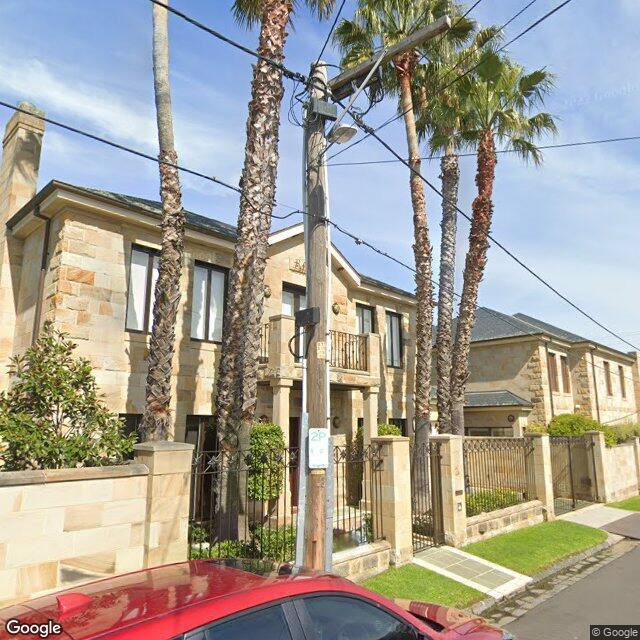crossarm: (326, 14, 453, 92), (279, 458, 281, 459)
streetlight: (318, 124, 360, 158)
timber-pole: (296, 60, 331, 571)
